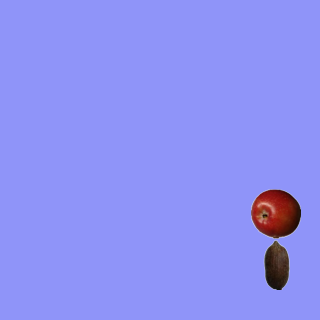Apple Braeburn: (250, 188, 300, 238)
Nut Pecan: (251, 239, 301, 289)
